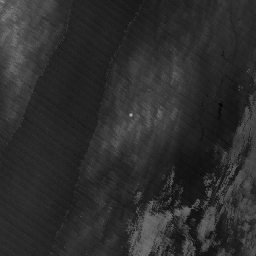Target: (126, 111, 133, 118)
